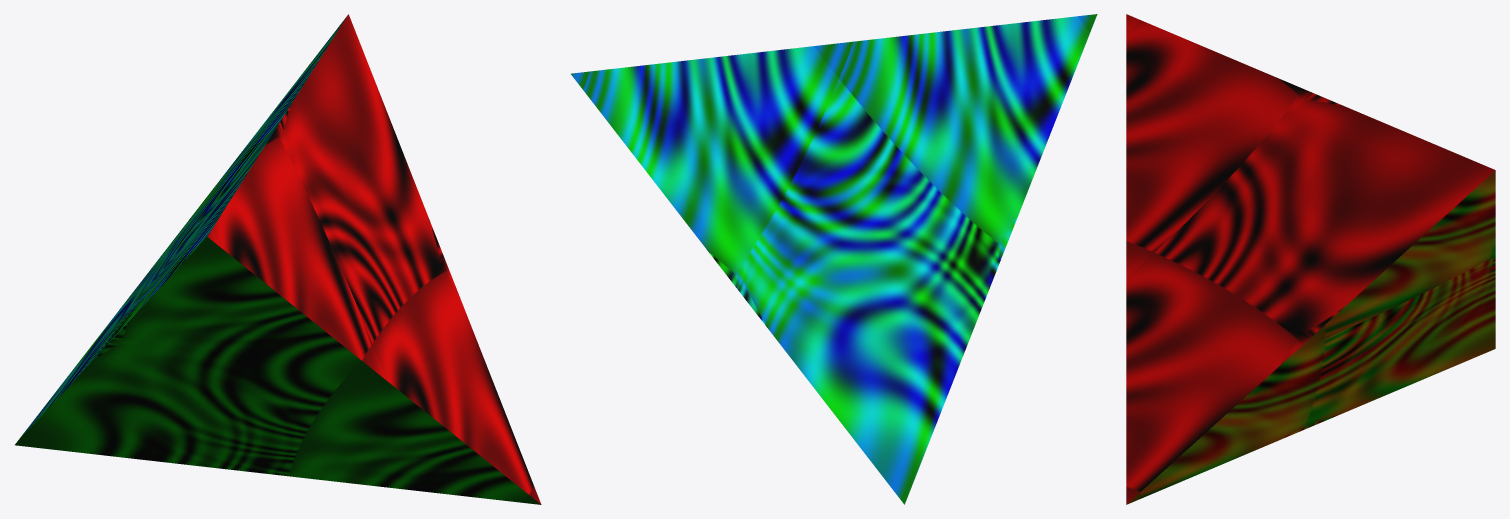
File: tetrahedron.gltf
The picture shows the model from 3 angles, left to right: view 1: azimuth 30°, elevation 25°; view 2: azimuth 150°, elevation 25°; view 3: azimuth 270°, elevation 25°; orthographic projection. The views are drawn at different scales.
Visible parts, largest first — view 1: Tetrahedron; view 2: Tetrahedron; view 3: Tetrahedron.
Boxes of the visible parts, <box> form: Tetrahedron: <box>15,14,541,504</box>; Tetrahedron: <box>571,14,1097,504</box>; Tetrahedron: <box>1126,14,1495,504</box>.
Bounding box in the file's own units: 2 × 2 × 2.
Materials: 4 (4 with a texture image).
